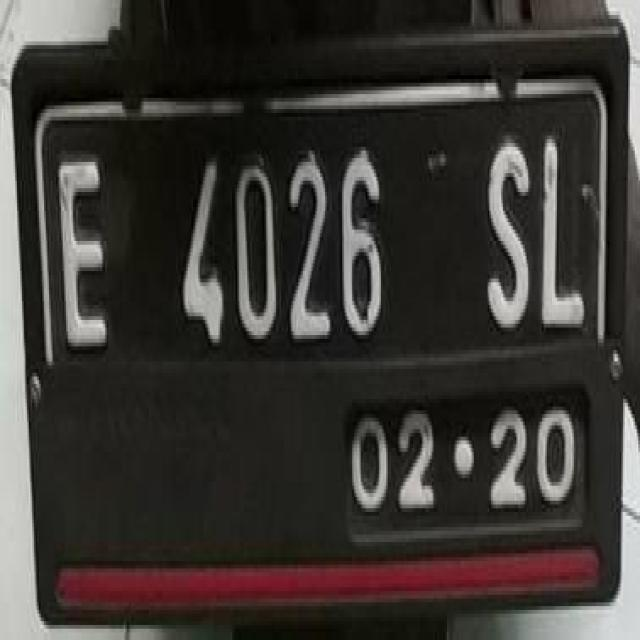0: (232, 145, 282, 359)
2: (283, 136, 338, 350)
4: (176, 134, 230, 348)
6: (334, 134, 389, 346)
E: (55, 137, 118, 356)
L: (538, 126, 588, 341)
S: (479, 124, 533, 339)
